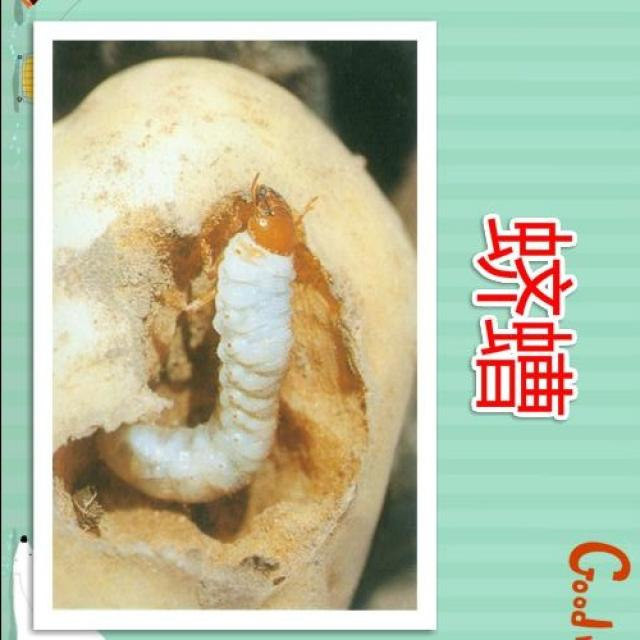grub: (101, 192, 298, 512)
